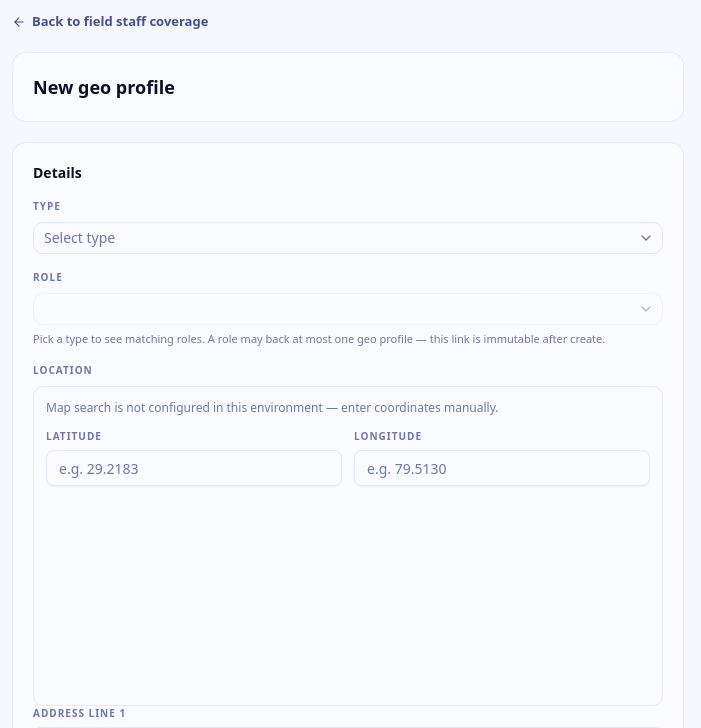
it: GeoProfileDetailPage — create mode › selecting type "dietitian" scopes Role options to dietitian-typed roles only — FO One and Sales Rep One are never offered
Click the dropdown labelled "Select type ▼" at (80, 237), box [33,222,663,254]
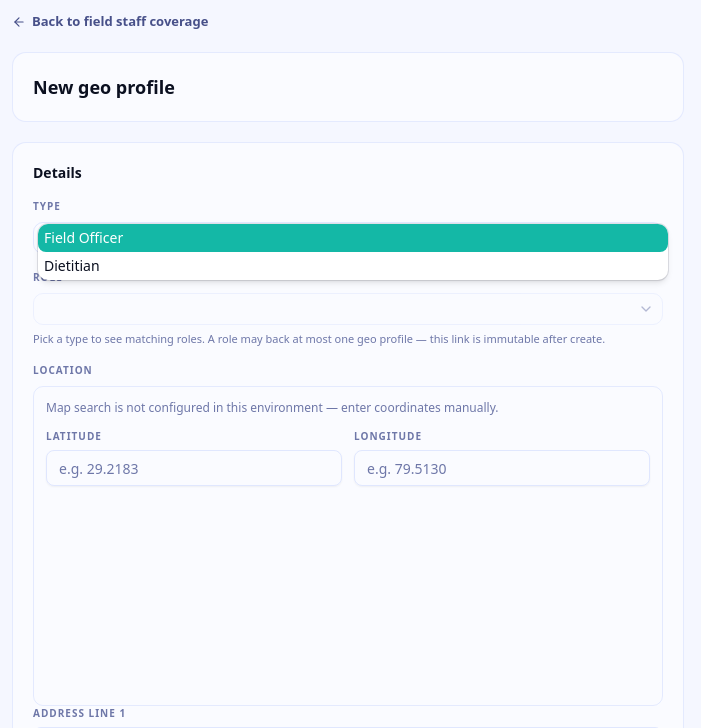
Click the option "Dietitian" at (72, 265), box [44,256,100,274]
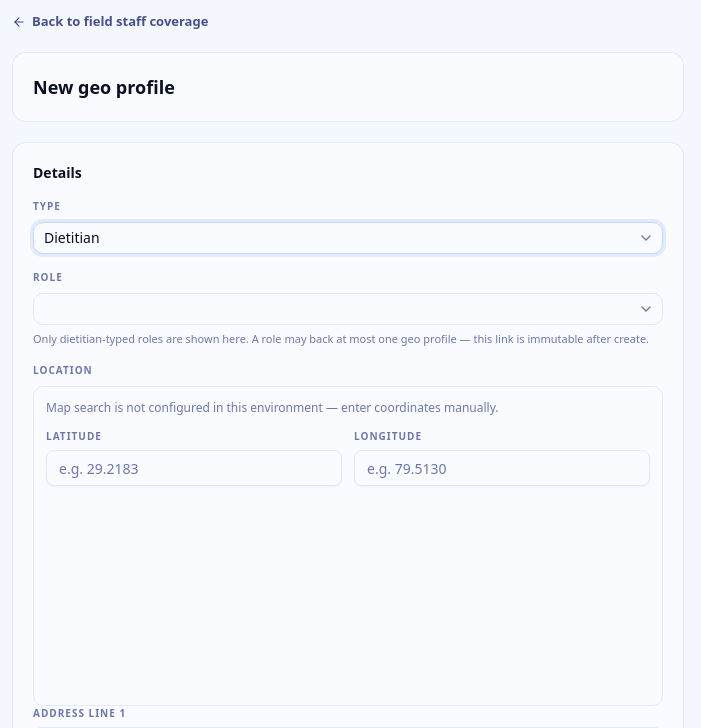
Click the dropdown named "role" at (646, 308), box [33,292,663,324]
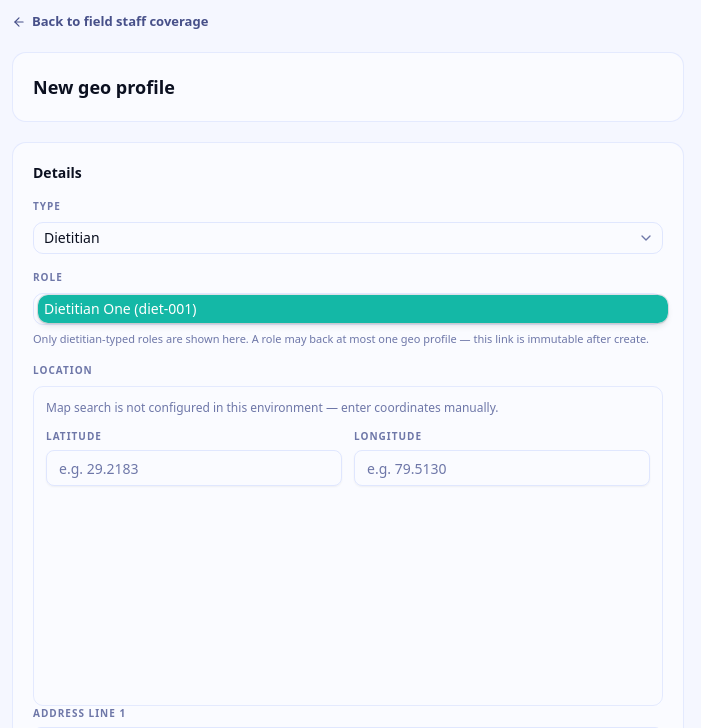
expect the text "Dietitian One (diet-001)" is shown: met, box [44,298,196,318]
